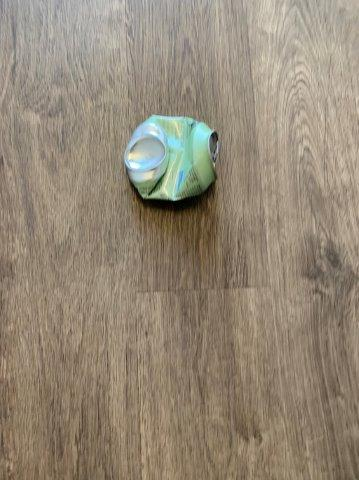kaleng: (124, 116, 216, 202)
